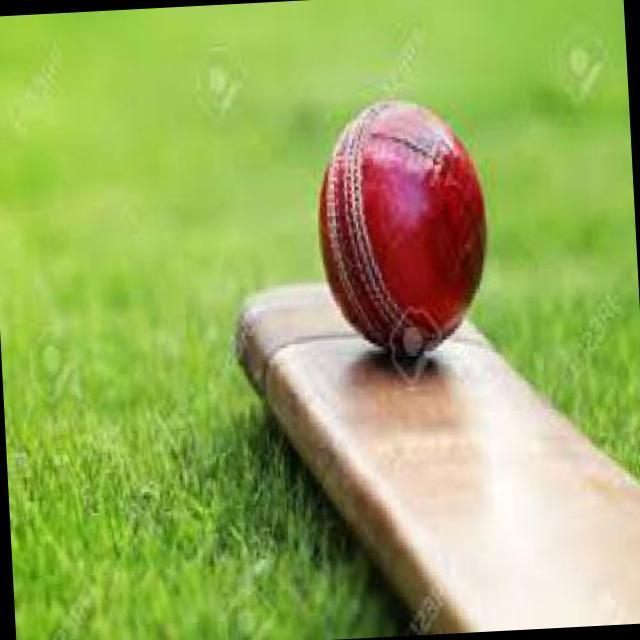-: (307, 111, 512, 362)
